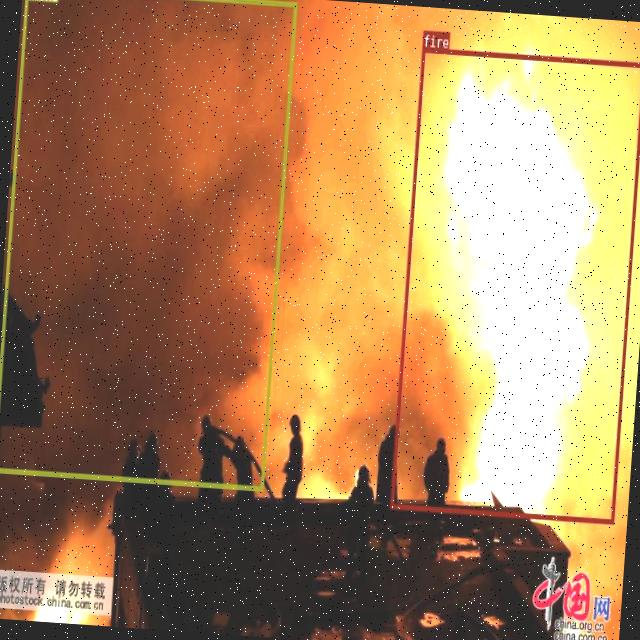fire: (389, 46, 640, 523)
smoke: (0, 0, 296, 490)
